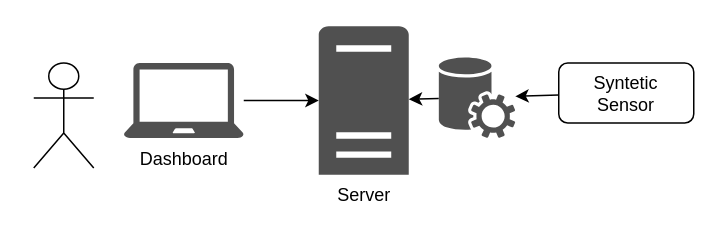
The diagram is 720 pixels wide and 231 high, and some of its shapes have lost their labels. Here are the shapes that lost their labels. From the top down, the centre of each, then its label:
point (63, 115): End User
point (476, 96): Dao
